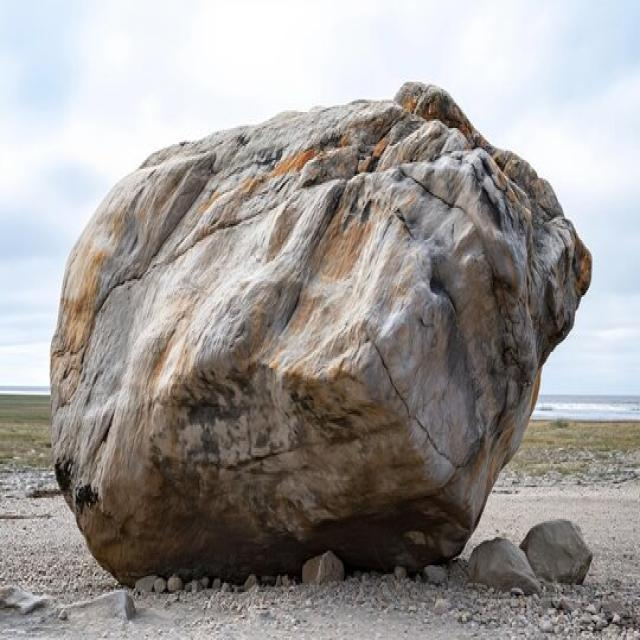stone: (51, 82, 591, 583), (519, 519, 591, 583), (468, 539, 539, 590)
